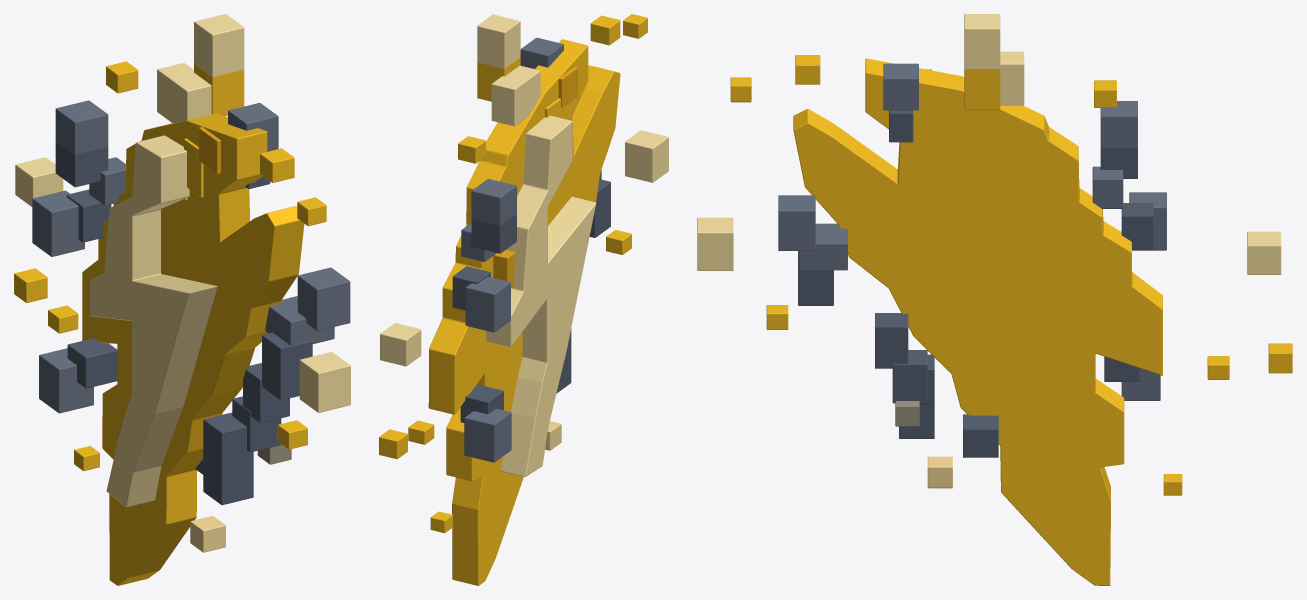
Rendered from SM_Blender_Storm.glb.
The picture shows the model from 3 angles, left to right: view 1: azimuth 30°, elevation 25°; view 2: azimuth 150°, elevation 25°; view 3: azimuth 270°, elevation 25°; orthographic projection. The views are drawn at different scales.
Parts seen in each view (by area): view 1: SM_Blender_Storm; view 2: SM_Blender_Storm; view 3: SM_Blender_Storm.
Boxes of the visible parts, bbox=[...] form: SM_Blender_Storm: bbox=[14, 14, 350, 585]; SM_Blender_Storm: bbox=[379, 14, 668, 585]; SM_Blender_Storm: bbox=[697, 14, 1292, 585].
Bounding box in the file's own units: 0.2873 × 1.38 × 1.3.
Materials: 2 (2 with a texture image).
